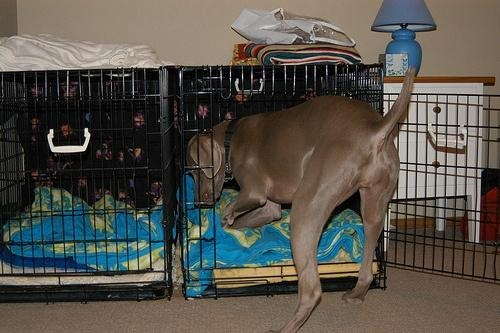dog: (186, 68, 422, 330)
